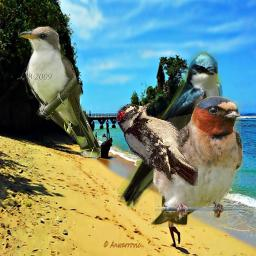Cuckoo: (18, 25, 101, 157)
Swallow: (117, 51, 224, 213), (150, 96, 246, 227)
Woodpecker: (116, 102, 198, 186)
